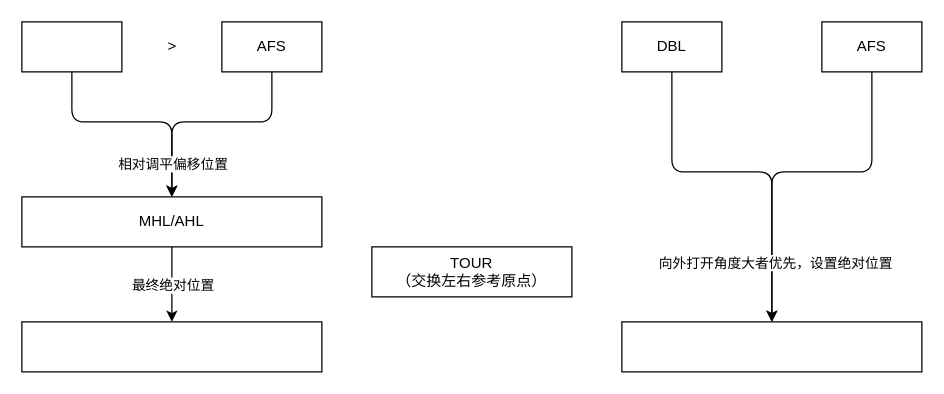
This 944x394 diagram has some shape labels left out. The shapes that lost their labels are listed below. From the top down, each one's centre as x and y in pixels, then its label:
pixel 71 46: AHB2
pixel 171 346: StepMotor-LVL
pixel 771 346: StepMotor-SWL
